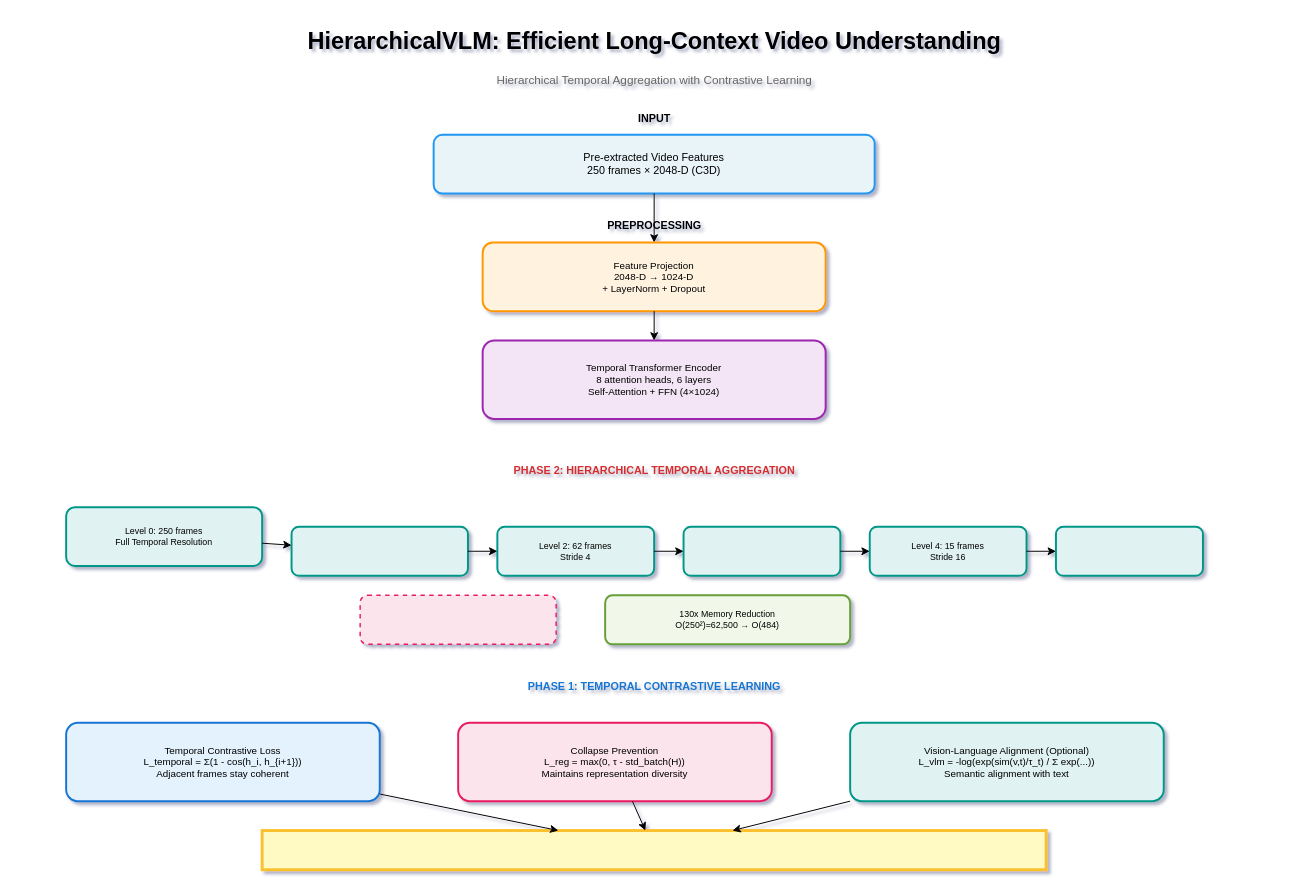
Image size: 1313x894. Some labels were removed from this diagram. The shapes that lost their labels are listed below. From the top down, each one's centre as x and y in pixels, then its label:
At pixel 379 550: "Level 1: 125 frames Stride 2".
At pixel 761 550: "Level 3: 31 frames Stride 8".
At pixel 1128 550: "Level 5: 7 frames Global Pooling".
At pixel 457 619: "Attention-Weighted Pooling α = softmax(w^T h)".
At pixel 653 850: "Total Loss = L_temporal + λ_reg×L_reg + λ_vlm×L_vlm".
